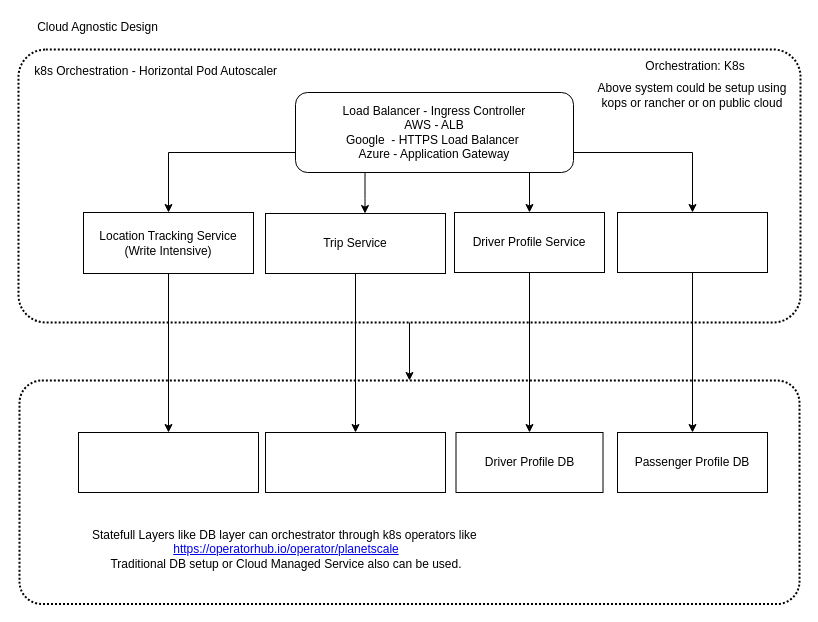
Image size: 818x622. Some labels were removed from this diagram. Here are the shapes that lost their labels. From the top down, the box of each, then its label:
(616, 212, 768, 272): Passenger Profile Service
(78, 432, 258, 492): Location Service DB
(264, 432, 446, 492): Trip Service DB
